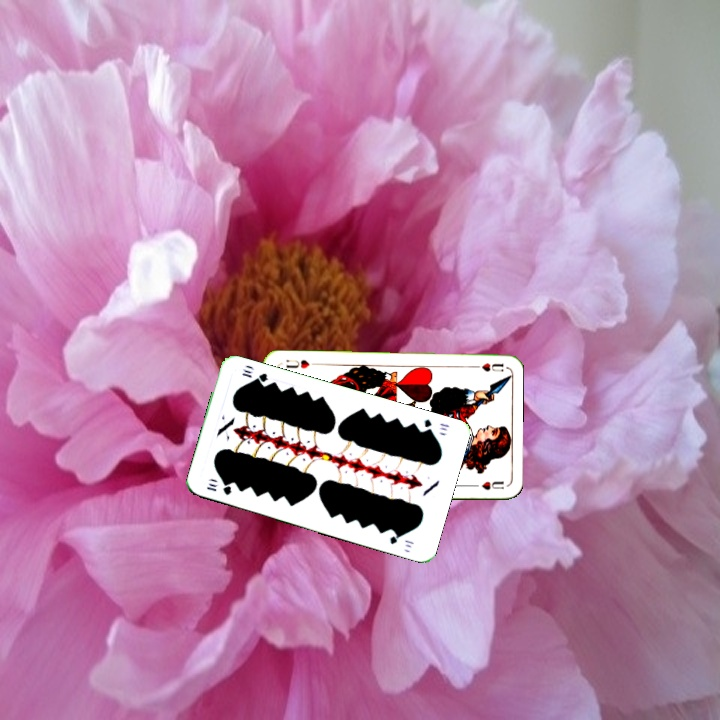G10: (420, 415, 452, 436), (203, 479, 234, 498)
HU: (466, 359, 506, 374)
